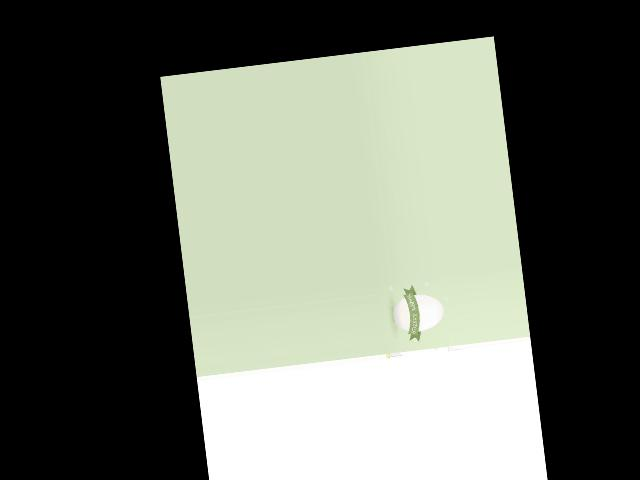egg: (391, 292, 445, 334)
